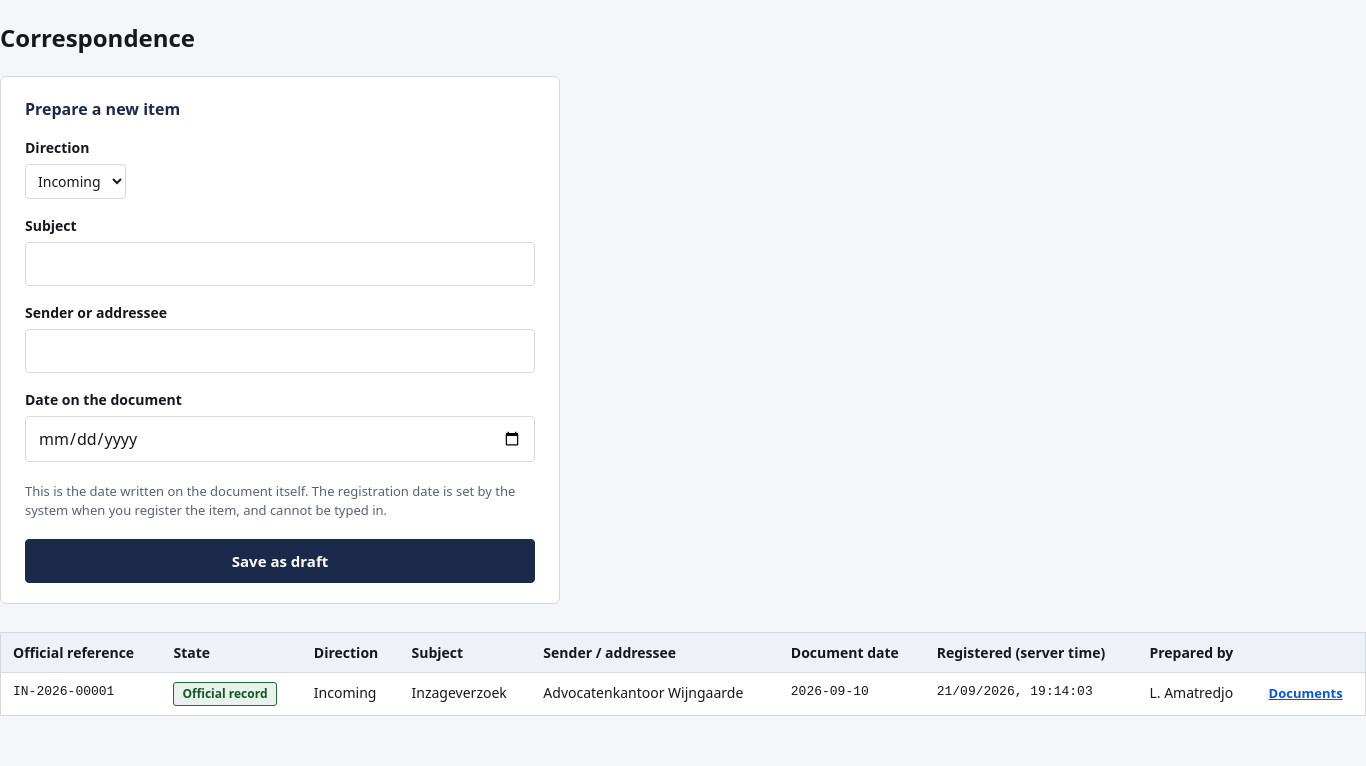
Test case: Registration duplicate warning › derived text (FR-COR-015) › shows the text as an aid, names the engine, and keeps the document itself in place
Click the button "Documents".
click(1306, 693)  # box [1269,684,1343,702]
(page scrolled)
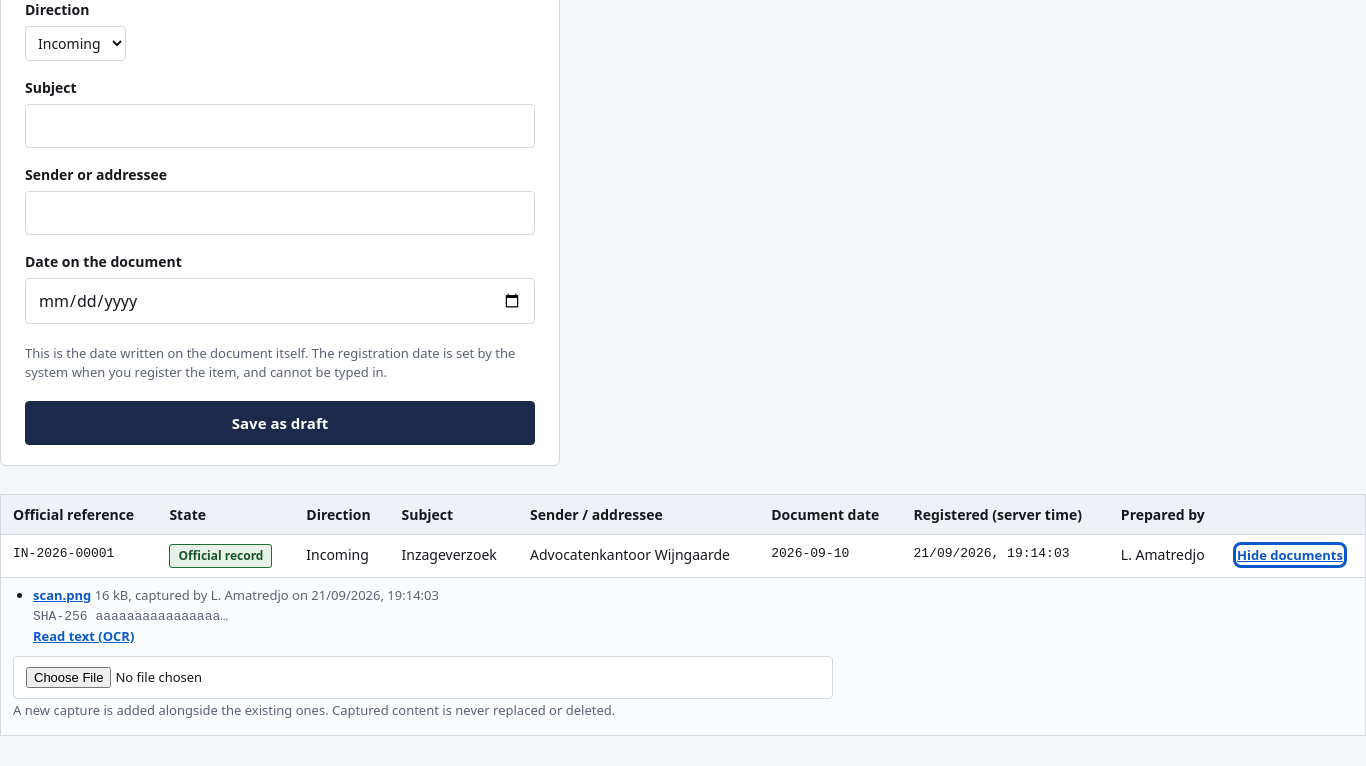
Click the button "Read text (OCR)".
click(84, 636)  # box [33,627,134,645]
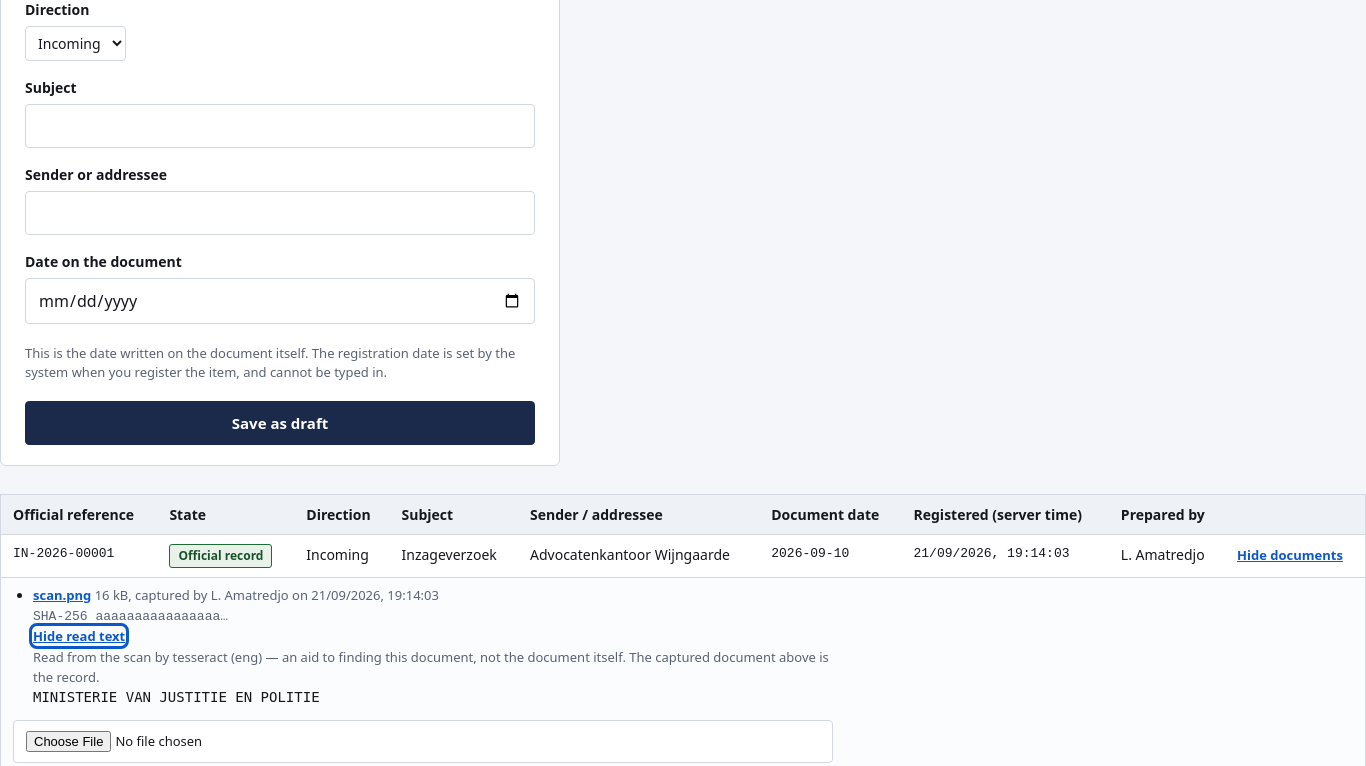
Expected: the text "MINISTERIE VAN JUSTITIE EN POLITIE" is shown, [33,689,320,705]
Expected: the text "not the document itself" is shown, [33,648,829,686]
Expected: the text "tesseract (eng)" is shown, [172,648,262,666]
